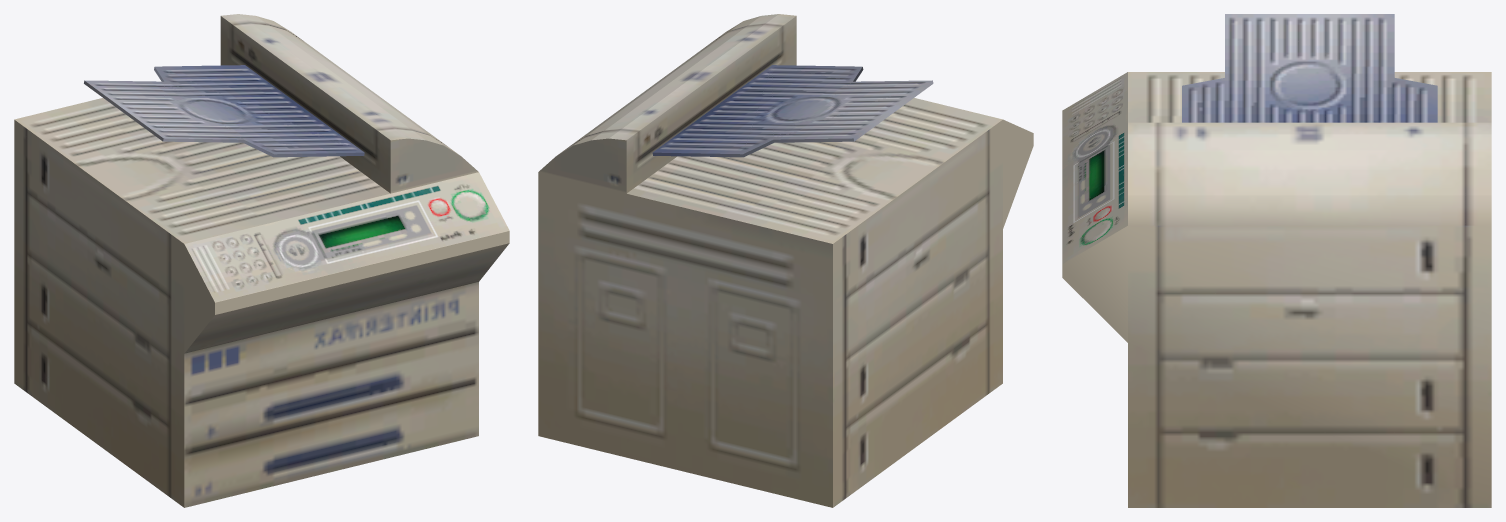
The model's file is printerfax.fbx.
3 views of the same model, side by side, from view 1: azimuth 30°, elevation 25°; view 2: azimuth 150°, elevation 25°; view 3: azimuth 270°, elevation 25° (orthographic). The views are drawn at different scales.
Visible parts, largest first — view 1: mesh_0; view 2: mesh_0; view 3: mesh_0.
Part boxes in pixels (box(x1,y1,x2,y2)): mesh_0: box(14, 14, 509, 507); mesh_0: box(538, 14, 1033, 507); mesh_0: box(1062, 14, 1491, 507).
Bounding box in the file's own units: 49.96 × 53.5 × 58.98.
Materials: 1 (1 with a texture image).
